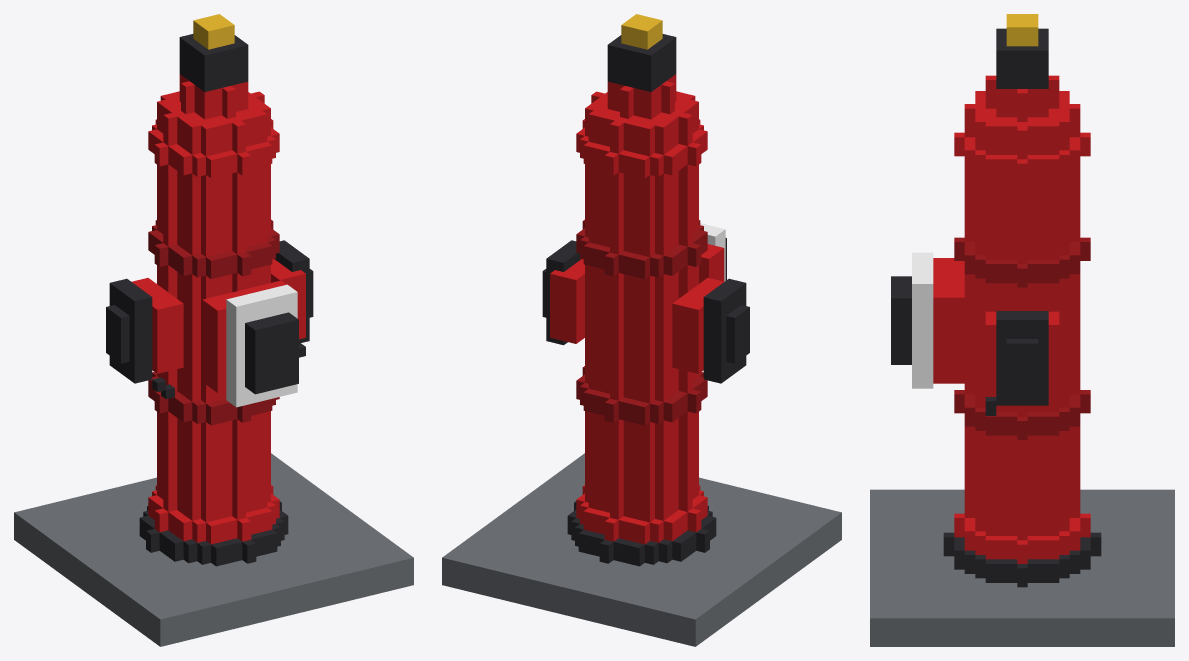
Rendered from boca_de_incendios.obj.
3 renders of one model, left to right at view 1: azimuth 30°, elevation 25°; view 2: azimuth 150°, elevation 25°; view 3: azimuth 270°, elevation 25°, orthographic. The views are drawn at different scales.
Bounding box in the file's own units: 2.9 × 5.9 × 2.9.
1 material, 1 textured.
